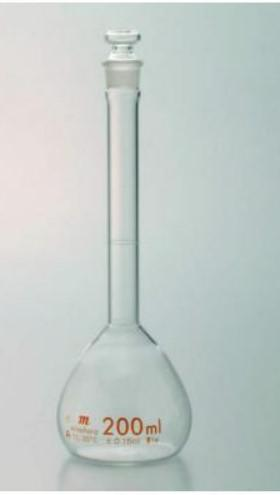Volumetric flask: (57, 30, 195, 462)
